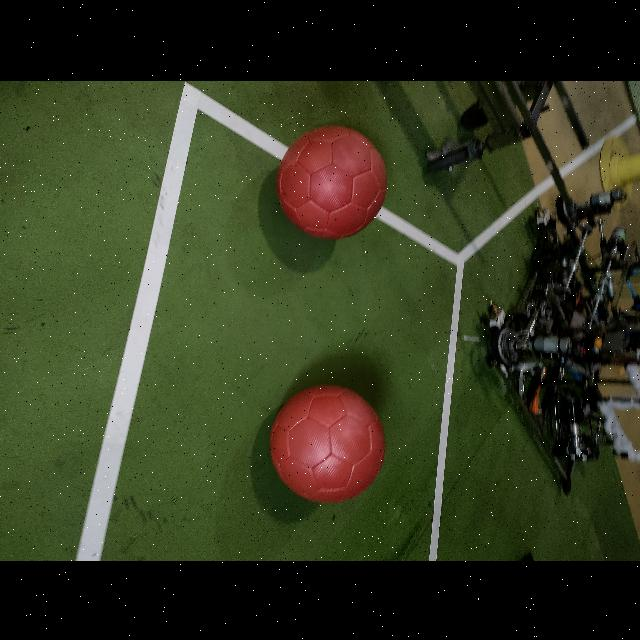R: (272, 384, 384, 502), (278, 125, 387, 238)
